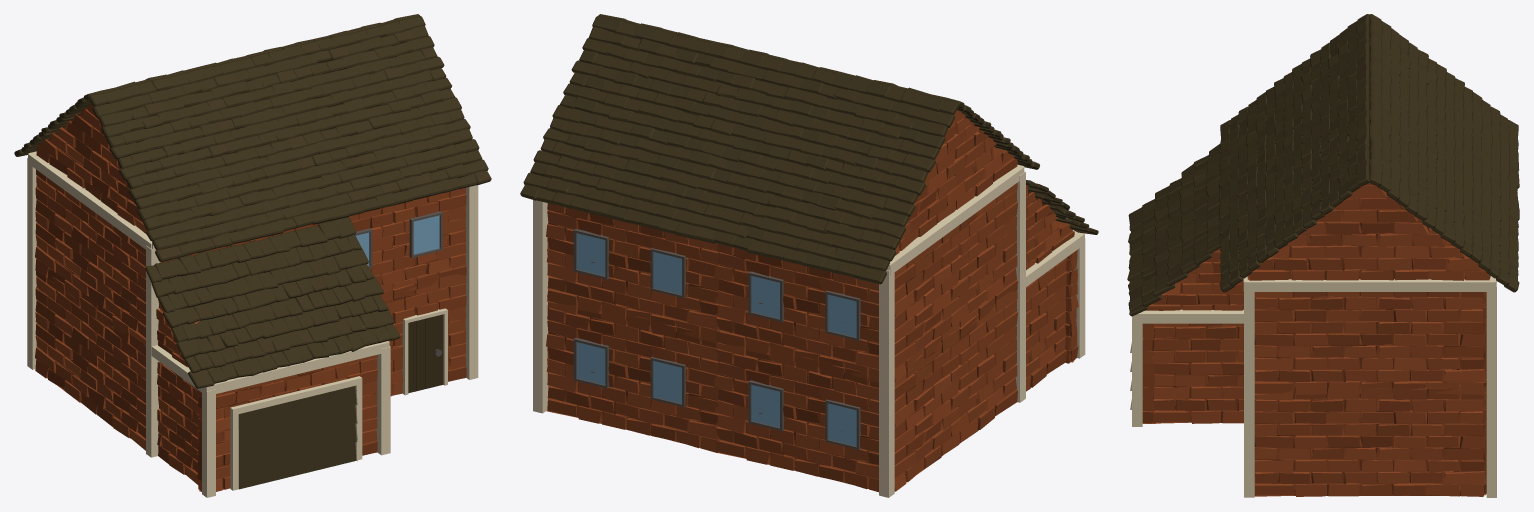
The model's file is HouseE.fbx.
3 renders of one model, left to right at view 1: azimuth 30°, elevation 25°; view 2: azimuth 150°, elevation 25°; view 3: azimuth 270°, elevation 25°, orthographic. The views are drawn at different scales.
Parts seen in each view (by area): view 1: Plane.005, Plane.002, Cube.026, Cube.031, Cube.039, Cube.037, Cube.025, Cube.051, Cube.014, Cube.010, Cylinder, Cube.021 (+12 smaller); view 2: Plane.005, Cube.024, Cube.012, Cube.026, Cube.038, Cube.039, Cube.042, Cube.051, Cube.010, Cube.021, Cube.048, Cube.007 (+17 smaller); view 3: Plane.005, Cube.027, Cube.040, Cube.049, Plane.002, Cube.028, Cube.022, Cube.030, Cube.023, Cube.025, Cube.011, Cube.005 (+3 smaller).
Boxes of the visible parts, x1=… form: Plane.005: x1=14, y1=14, x2=491, y2=261; Plane.002: x1=145, y1=217, x2=400, y2=388; Cube.026: x1=35, y1=263, x2=145, y2=450; Cube.031: x1=230, y1=376, x2=362, y2=490; Cube.039: x1=35, y1=169, x2=145, y2=347; Cube.037: x1=311, y1=187, x2=466, y2=294; Cube.025: x1=197, y1=354, x2=377, y2=491; Cube.051: x1=36, y1=103, x2=147, y2=234; Cube.014: x1=380, y1=268, x2=466, y2=396; Cube.010: x1=157, y1=362, x2=201, y2=484; Cylinder: x1=398, y1=308, x2=447, y2=395; Cube.021: x1=28, y1=153, x2=151, y2=249; Plane.005: x1=520, y1=14, x2=1039, y2=284; Cube.024: x1=546, y1=295, x2=725, y2=452; Cube.012: x1=714, y1=342, x2=878, y2=492; Cube.026: x1=894, y1=291, x2=1018, y2=491; Cube.038: x1=546, y1=203, x2=725, y2=343; Cube.039: x1=894, y1=183, x2=1017, y2=381; Cube.042: x1=714, y1=243, x2=878, y2=382; Cube.051: x1=895, y1=110, x2=1017, y2=255; Cube.010: x1=1026, y1=251, x2=1068, y2=391; Cube.021: x1=889, y1=167, x2=1024, y2=275; Cube.048: x1=1026, y1=185, x2=1074, y2=269; Cube.007: x1=879, y1=380, x2=894, y2=497; Plane.005: x1=1219, y1=14, x2=1519, y2=292; Cube.027: x1=1254, y1=386, x2=1486, y2=496; Cube.040: x1=1254, y1=292, x2=1486, y2=394; Cube.049: x1=1247, y1=183, x2=1490, y2=280; Plane.002: x1=1127, y1=142, x2=1221, y2=316; Cube.028: x1=1151, y1=323, x2=1243, y2=423; Cube.022: x1=1245, y1=278, x2=1495, y2=291; Cube.030: x1=1143, y1=248, x2=1243, y2=310; Cube.023: x1=1132, y1=309, x2=1243, y2=323; Cube.025: x1=1142, y1=323, x2=1155, y2=423; Cube.011: x1=1132, y1=314, x2=1142, y2=426; Cube.005: x1=1244, y1=390, x2=1254, y2=497.
Bounding box in the file's own units: 644 × 572 × 629.
